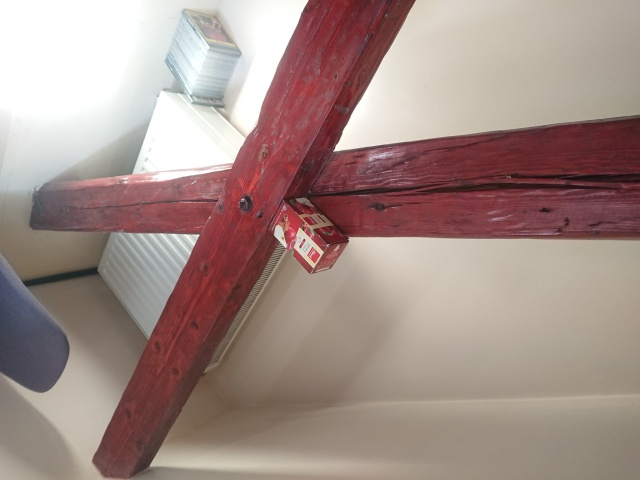Franck Apple Cinnamon Tea 60g: (265, 195, 350, 275)
